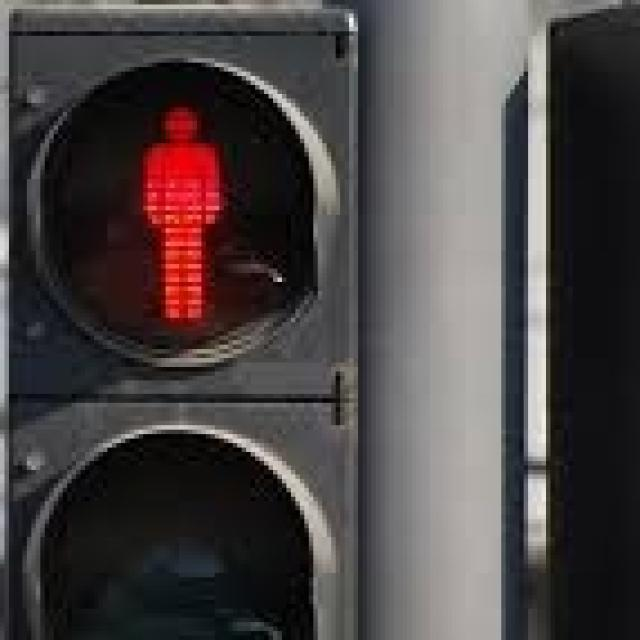red-crossing: (108, 76, 242, 327)
